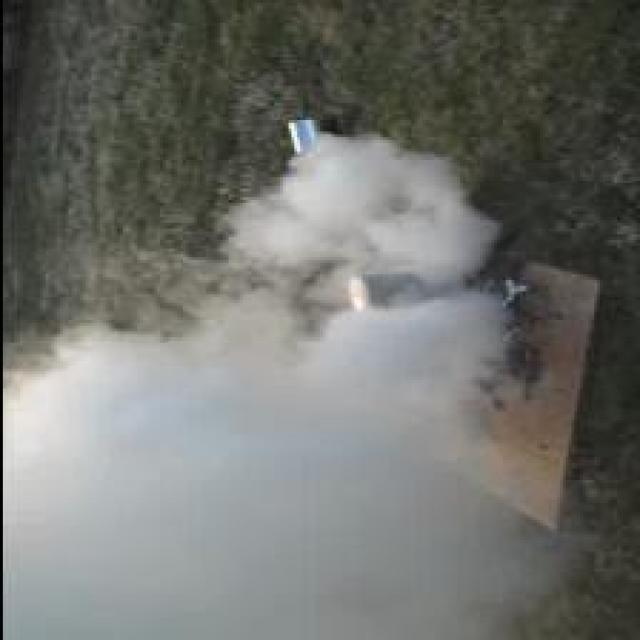Smoke: (3, 131, 540, 640)
